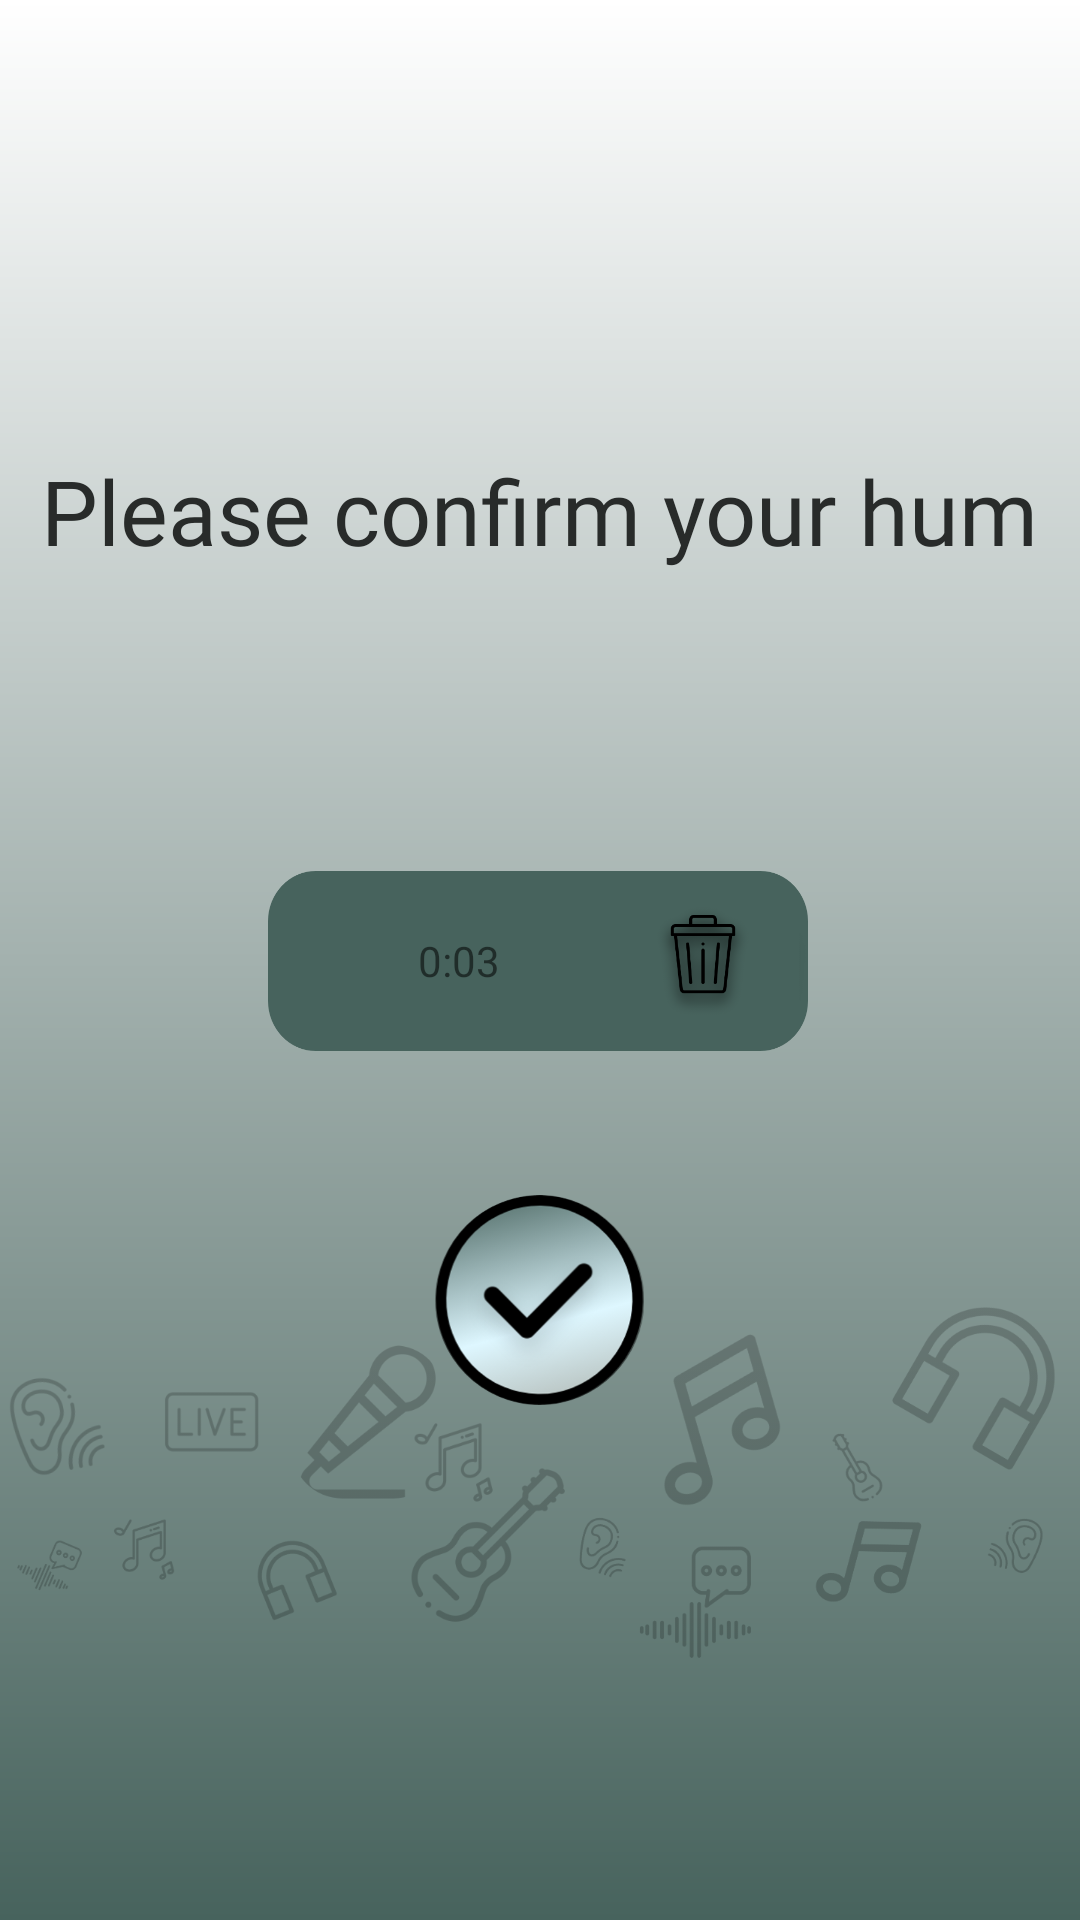

Named icons in this screenshot (1080px×1920px) and their bounding boxes, (x1, y1, x2, y2):
bin: (670, 915, 736, 996)
